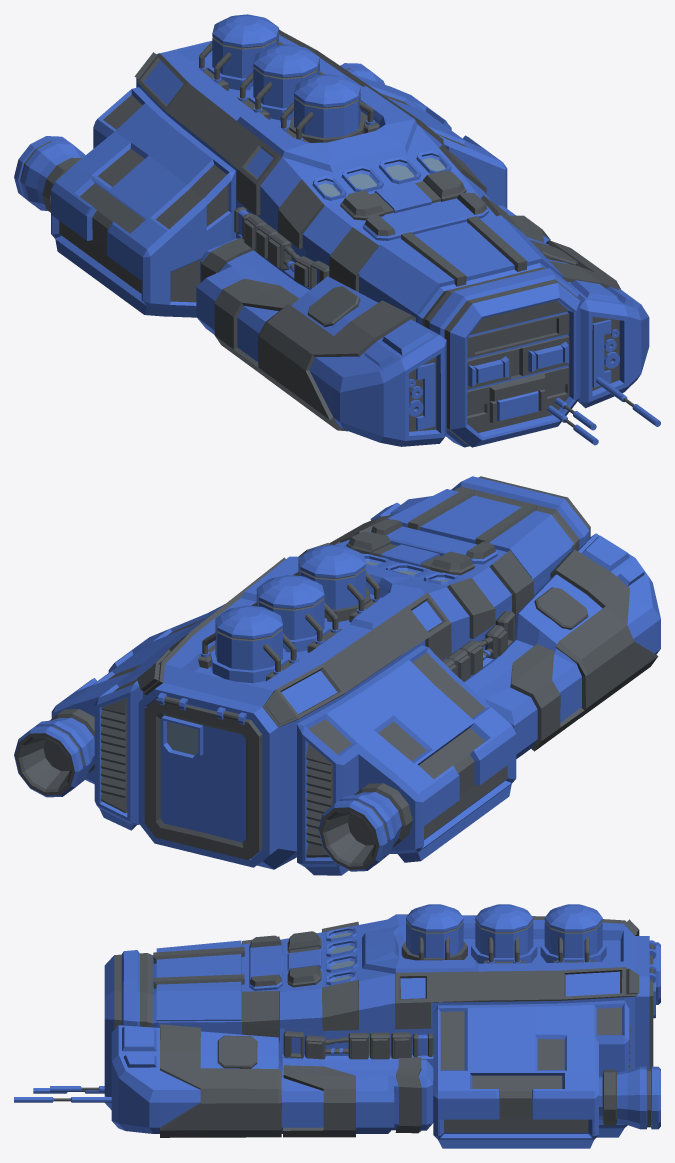
Rendered from Mothership_01_Blue.fbx.
3 views of the same model, one above another, from view 1: azimuth 30°, elevation 25°; view 2: azimuth 150°, elevation 25°; view 3: azimuth 270°, elevation 25° (orthographic). The views are drawn at different scales.
Visible parts, largest first — view 1: Mothership_01_Blue; view 2: Mothership_01_Blue; view 3: Mothership_01_Blue.
Part boxes in pixels (x1=…): Mothership_01_Blue: x1=14, y1=14, x2=660, y2=447; Mothership_01_Blue: x1=14, y1=476, x2=660, y2=875; Mothership_01_Blue: x1=14, y1=904, x2=660, y2=1148.
Size of the model in its own units: 4176 by 2438 by 7543.
Materials: 3 (3 with a texture image).
